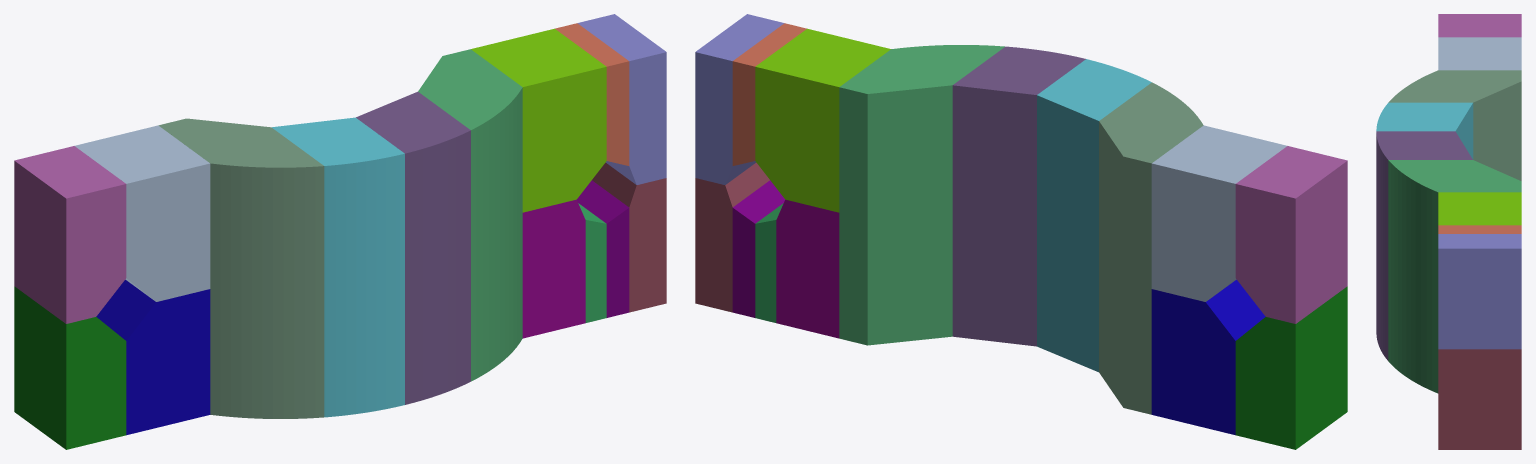
The model's file is 3_canonical.obj.
3 renders of one model, left to right at view 1: azimuth 30°, elevation 25°; view 2: azimuth 150°, elevation 25°; view 3: azimuth 270°, elevation 25°, orthographic. The views are drawn at different scales.
Visible parts, largest first — view 1: geometry_0, geometry_2, geometry_1, geometry_3, geometry_7, geometry_6, geometry_4, geometry_8, geometry_5, geometry_14, geometry_12, geometry_13 (+3 smaller); view 2: geometry_3, geometry_1, geometry_2, geometry_0, geometry_7, geometry_6, geometry_4, geometry_8, geometry_5, geometry_14, geometry_12, geometry_13 (+3 smaller); view 3: geometry_3, geometry_12, geometry_13, geometry_0, geometry_1, geometry_2, geometry_4, geometry_6, geometry_7, geometry_9.
Part boxes in pixels (x1=…): geometry_0: x1=158, y1=118, x2=324, y2=418; geometry_2: x1=272, y1=117, x2=404, y2=417; geometry_1: x1=356, y1=91, x2=470, y2=404; geometry_3: x1=418, y1=49, x2=522, y2=381; geometry_7: x1=14, y1=146, x2=126, y2=323; geometry_6: x1=74, y1=125, x2=210, y2=301; geometry_4: x1=471, y1=28, x2=606, y2=212; geometry_8: x1=14, y1=286, x2=126, y2=449; geometry_5: x1=96, y1=279, x2=210, y2=435; geometry_14: x1=522, y1=199, x2=585, y2=338; geometry_12: x1=577, y1=14, x2=666, y2=184; geometry_13: x1=592, y1=162, x2=666, y2=312; geometry_3: x1=839, y1=45, x2=1004, y2=345; geometry_1: x1=952, y1=46, x2=1085, y2=346; geometry_2: x1=1037, y1=59, x2=1151, y2=372; geometry_0: x1=1099, y1=82, x2=1203, y2=414; geometry_7: x1=1235, y1=146, x2=1347, y2=323; geometry_6: x1=1151, y1=125, x2=1287, y2=301; geometry_4: x1=755, y1=28, x2=890, y2=212; geometry_8: x1=1235, y1=286, x2=1347, y2=449; geometry_5: x1=1151, y1=279, x2=1265, y2=435; geometry_14: x1=776, y1=199, x2=839, y2=338; geometry_12: x1=695, y1=14, x2=784, y2=184; geometry_13: x1=695, y1=162, x2=769, y2=312; geometry_3: x1=1388, y1=160, x2=1521, y2=393; geometry_12: x1=1438, y1=234, x2=1521, y2=349; geometry_13: x1=1438, y1=349, x2=1521, y2=449; geometry_0: x1=1388, y1=70, x2=1521, y2=180; geometry_1: x1=1376, y1=131, x2=1472, y2=360; geometry_2: x1=1376, y1=102, x2=1473, y2=159; geometry_4: x1=1438, y1=192, x2=1521, y2=225; geometry_6: x1=1438, y1=37, x2=1521, y2=70; geometry_7: x1=1438, y1=14, x2=1521, y2=37; geometry_9: x1=1438, y1=225, x2=1521, y2=233.
Size of the model in its own units: 0.1 by 0.04 by 0.0261.
